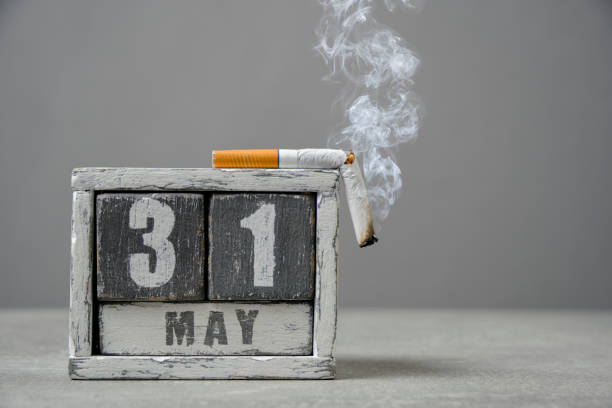cigarette: (338, 151, 377, 249), (208, 144, 348, 169)
